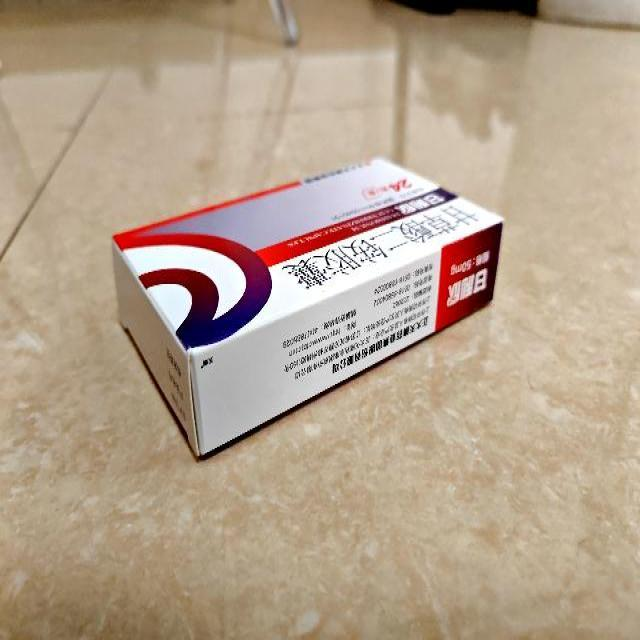box: (111, 156, 502, 456)
